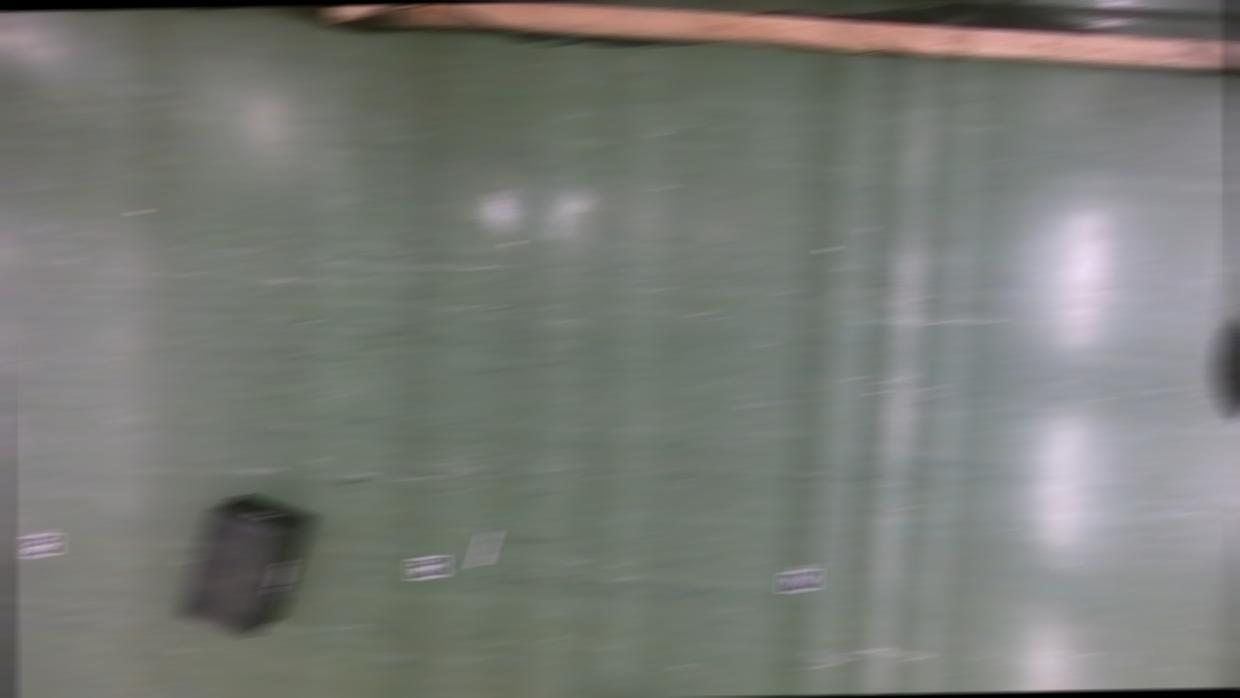probes: (470, 528, 496, 566)
rako: (174, 491, 315, 636)
